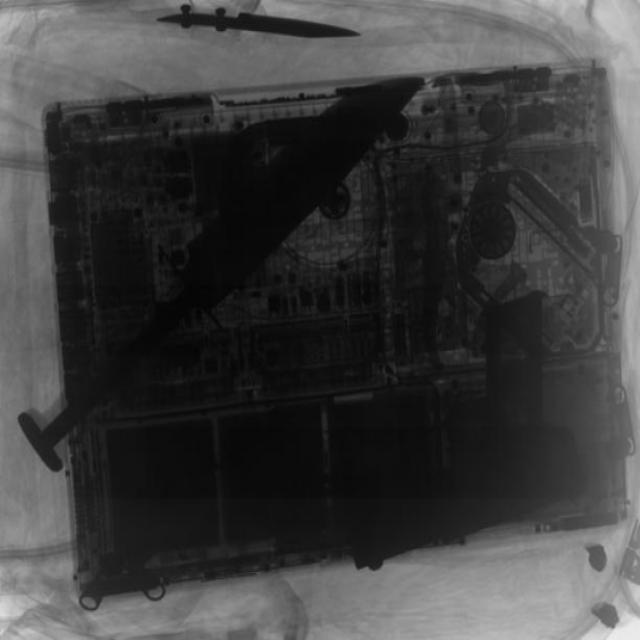GUN: (1, 61, 421, 470), (162, 16, 400, 51)
